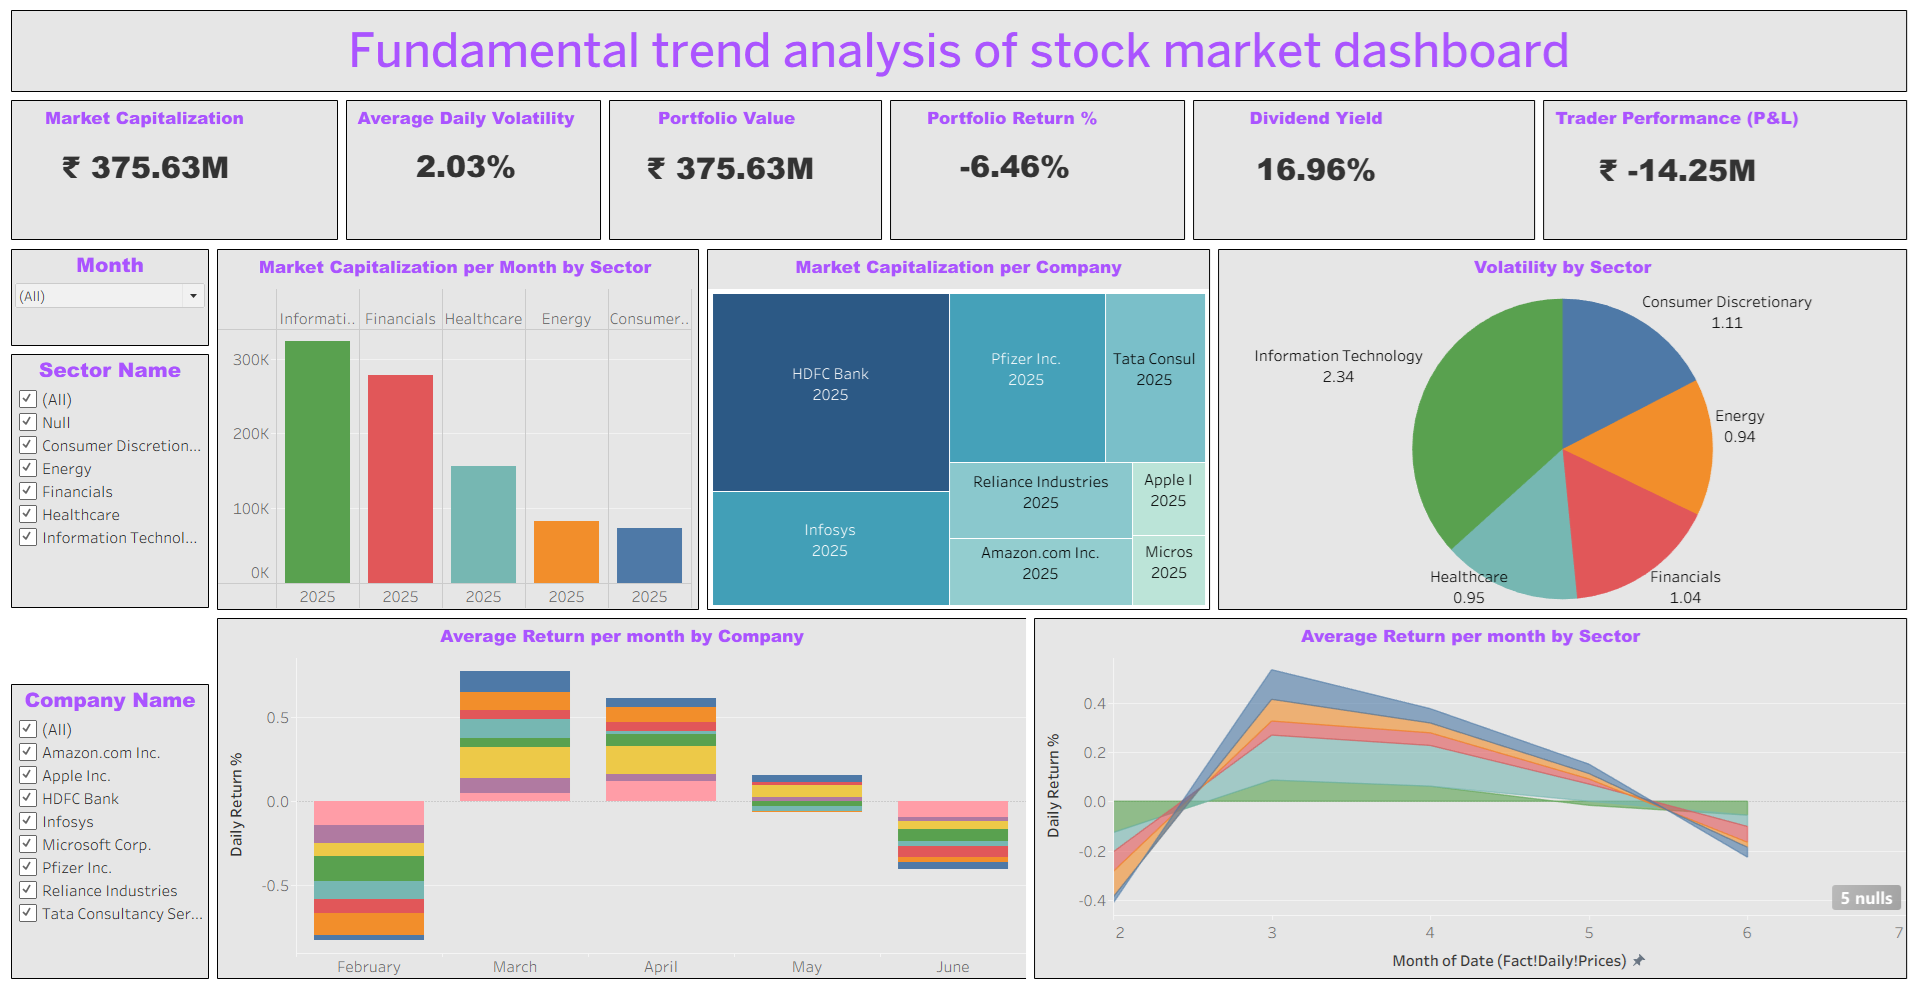

This screenshot's page, from the dashboard's own definition file:
{"tool":"tableau","page":{"name":"Dashboard 2","canvas":[1000,1000],"units":"permille","ordinal":0},"visuals":[{"type":"text","box":[4.8,10,990.3,90.6]},{"type":"worksheet","title":"Market Capitalization","mark":"Automatic","box":[4.8,100.6,174,148.7]},{"type":"worksheet","title":"Average Daily Volatility","mark":"Automatic","box":[178.8,100.6,158.7,148.7]},{"type":"worksheet","title":"Portfolio Value GPT Incorrect","mark":"Automatic","box":[337.5,100.6,164.4,148.7]},{"type":"worksheet","title":"Portfolio Return % incorrect  Gemini","mark":"Automatic","box":[501.9,100.6,164.4,148.7]},{"type":"worksheet","title":"Dividend Yield incorrect Gemini ","mark":"Automatic","box":[666.3,100.6,164.4,148.7]},{"type":"worksheet","title":"Trader Performance (P&L) Gemini","mark":"Automatic","box":[830.7,100.6,164.4,148.7]},{"type":"filter","title":"Average Return per month by Company","param":"[federated.1qymsvd1i9s4dl1afl9ci0umzbjq].[mn:date (fact!daily!prices):ok]","box":[4.8,249.2,106.9,131.1]},{"type":"worksheet","title":"Market Capitalization per Month by Sector","mark":"Bar","rows":["close"],"cols":["sector_name","date (dim!calendar)"],"box":[111.7,249.2,295.7,370.2]},{"type":"worksheet","title":"Market Capitalization per Month by Company","mark":"Automatic","box":[407.4,249.2,308.4,370.2]},{"type":"worksheet","title":"Volatility by Sector","mark":"Pie","box":[715.8,249.2,279.3,370.2]},{"type":"filter","title":"Volatility by Sector","param":"[federated.1qymsvd1i9s4dl1afl9ci0umzbjq].[none:sector_name:nk]","box":[4.8,380.3,106.9,305.9]},{"type":"worksheet","title":"Average Return per month by Company","mark":"Bar","cols":["date (fact!daily!prices)"],"box":[111.7,619.4,425.2,370.6]},{"type":"worksheet","title":"Average Return per month by Sector","mark":"Area","cols":["date (fact!daily!prices)"],"box":[536.9,619.4,458.2,370.6]},{"type":"filter","title":"Market Capitalization per Month by Company","param":"[federated.1qymsvd1i9s4dl1afl9ci0umzbjq].[none:company_name:nk]","box":[4.8,686.2,106.9,303.8]}]}

Visuals, with their boxes on the dashboard's canvas, which has no fixed pixel size, in thousandths of its width and height (x1, y1, x2, y2). These are canvas units, not pixel positions in the 1917x988 screenshot, which may show the page scaled, cropped or inside an application window:
text: Rect(5, 10, 995, 101)
"Market Capitalization" worksheet: Rect(5, 101, 179, 249)
"Average Daily Volatility" worksheet: Rect(179, 101, 338, 249)
"Portfolio Value GPT Incorrect" worksheet: Rect(338, 101, 502, 249)
"Portfolio Return % incorrect  Gemini" worksheet: Rect(502, 101, 666, 249)
"Dividend Yield incorrect Gemini " worksheet: Rect(666, 101, 831, 249)
"Trader Performance (P&L) Gemini" worksheet: Rect(831, 101, 995, 249)
"Average Return per month by Company" filter: Rect(5, 249, 112, 380)
"Market Capitalization per Month by Sector" worksheet (Bar marks): Rect(112, 249, 407, 619)
"Market Capitalization per Month by Company" worksheet: Rect(407, 249, 716, 619)
"Volatility by Sector" worksheet (Pie marks): Rect(716, 249, 995, 619)
"Volatility by Sector" filter: Rect(5, 380, 112, 686)
"Average Return per month by Company" worksheet (Bar marks): Rect(112, 619, 537, 990)
"Average Return per month by Sector" worksheet (Area marks): Rect(537, 619, 995, 990)
"Market Capitalization per Month by Company" filter: Rect(5, 686, 112, 990)
